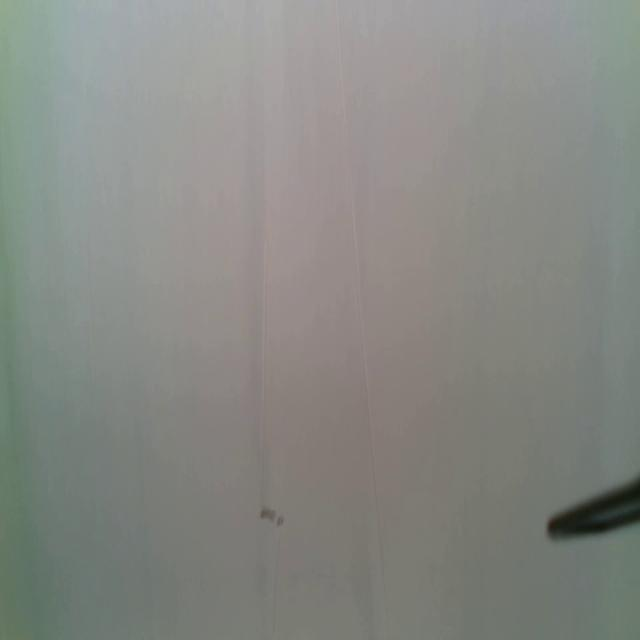crease: (335, 0, 394, 626), (259, 162, 271, 489)
hole: (258, 507, 275, 522), (276, 516, 286, 529)
